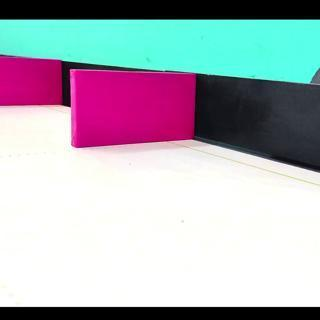xparking: (72, 74, 196, 146), (2, 60, 60, 105)
